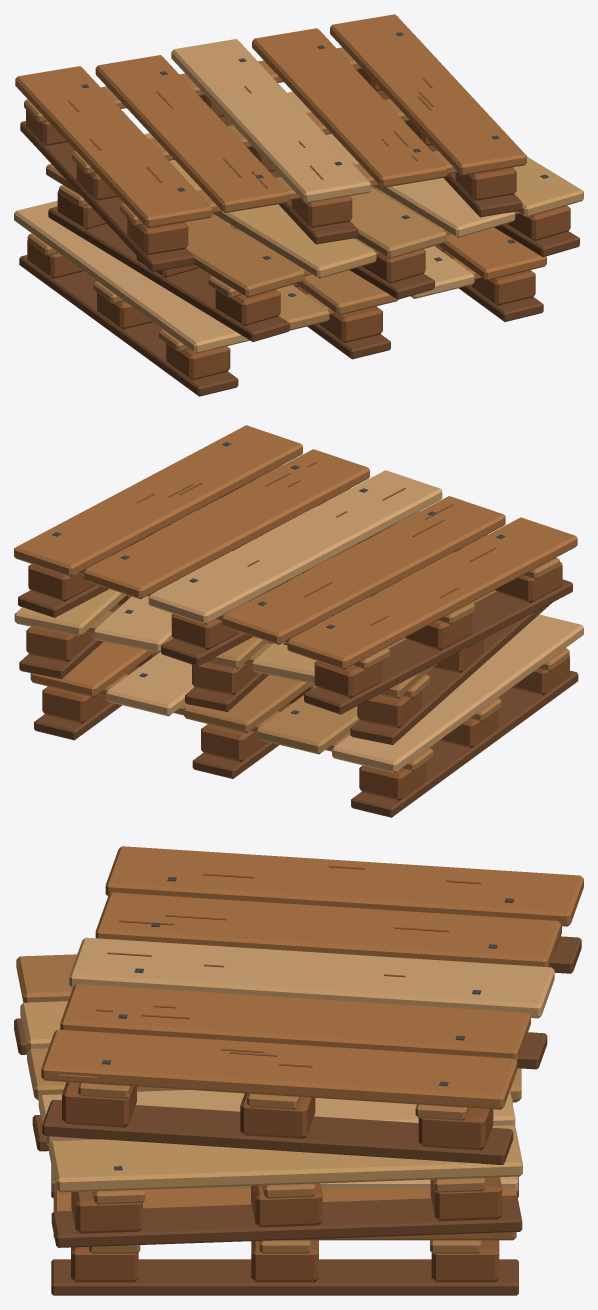
The model's file is wsc-prop-009-stacked-pallets.glb.
The picture shows the model from 3 angles, top to bottom: view 1: azimuth 30°, elevation 25°; view 2: azimuth 150°, elevation 25°; view 3: azimuth 270°, elevation 25°; orthographic projection. The views are drawn at different scales.
Parts seen in each view (by area): view 1: Stacked pallets; view 2: Stacked pallets; view 3: Stacked pallets.
Part boxes in pixels (left/top/right/bottom): Stacked pallets: left=14, top=14, right=583, bottom=396; Stacked pallets: left=14, top=425, right=583, bottom=817; Stacked pallets: left=14, top=846, right=583, bottom=1295.
Size of the model in its own units: 1.27 by 0.492 by 1.17.
